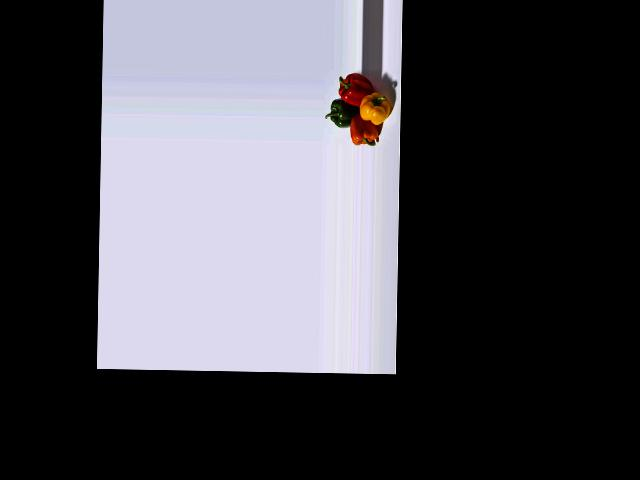bell_pepper: (334, 71, 374, 106)
